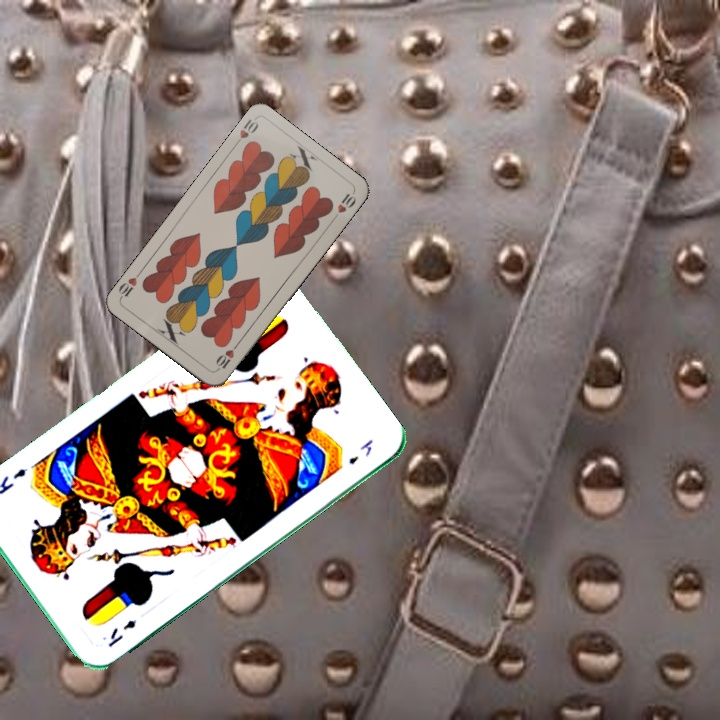EK: (104, 615, 139, 650)
H10: (230, 115, 261, 150), (212, 339, 242, 373)
